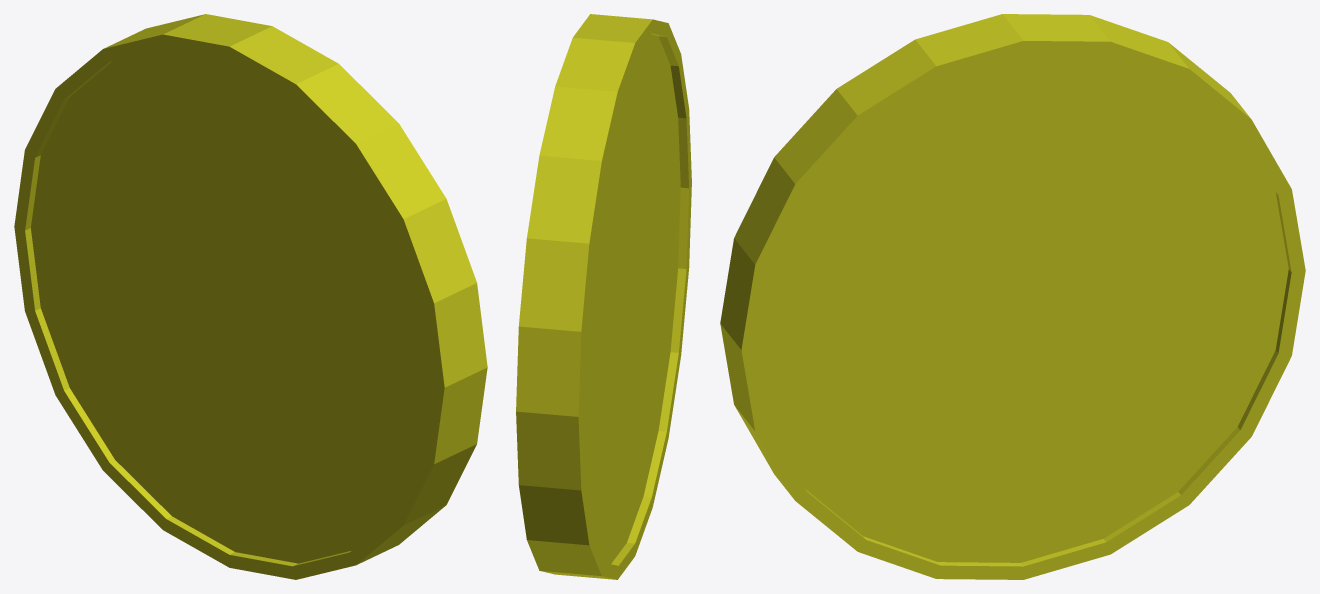
The model's file is Low Poly Coin_000035.obj.
The picture shows the model from 3 angles, left to right: view 1: azimuth 30°, elevation 25°; view 2: azimuth 150°, elevation 25°; view 3: azimuth 270°, elevation 25°; orthographic projection. The views are drawn at different scales.
Parts seen in each view (by area): view 1: Cylinder; view 2: Cylinder; view 3: Cylinder.
Boxes of the visible parts, x1,y1,x2,y2 form: Cylinder: [14, 14, 487, 579]; Cylinder: [516, 14, 691, 579]; Cylinder: [720, 14, 1305, 579].
Bounding box in the file's own units: 0.8465 × 2 × 1.97.
